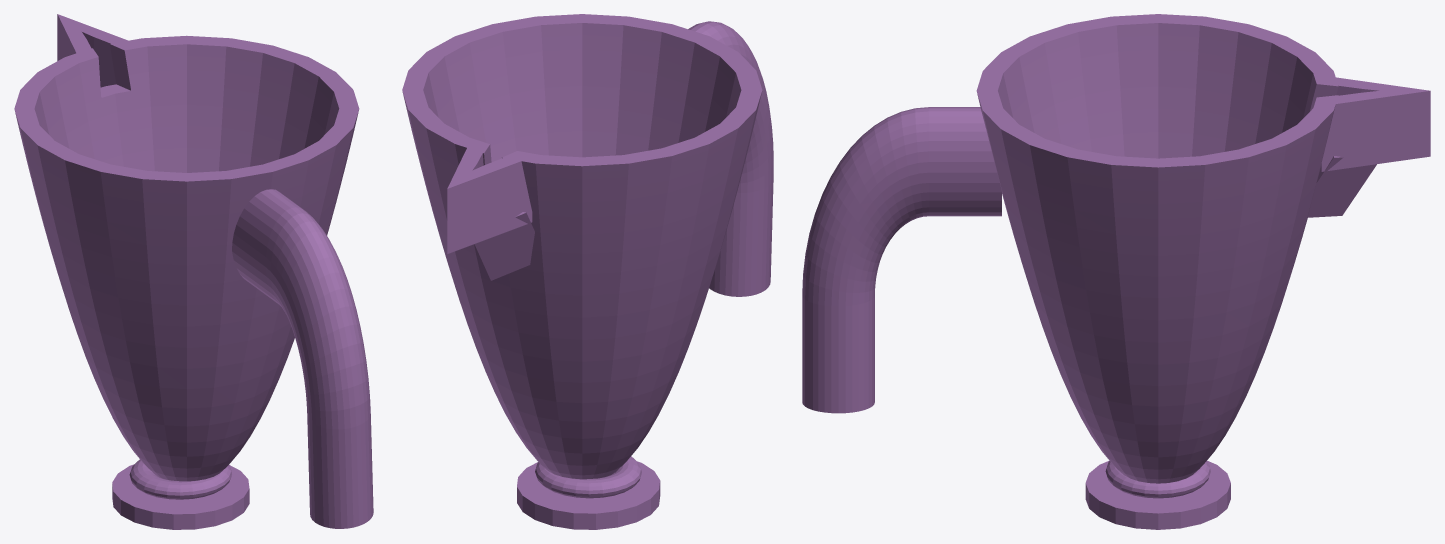
Rendered from Jarra.glb.
3 renders of one model, left to right at view 1: azimuth 30°, elevation 25°; view 2: azimuth 150°, elevation 25°; view 3: azimuth 270°, elevation 25°, orthographic. The views are drawn at different scales.
Parts seen in each view (by area): view 1: Mesh_Mesh_head_geo.001_lambert2SG.001; view 2: Mesh_Mesh_head_geo.001_lambert2SG.001; view 3: Mesh_Mesh_head_geo.001_lambert2SG.001.
Part boxes in pixels (left/top/right/bottom): Mesh_Mesh_head_geo.001_lambert2SG.001: left=14, top=14, right=373, bottom=529; Mesh_Mesh_head_geo.001_lambert2SG.001: left=402, top=14, right=773, bottom=529; Mesh_Mesh_head_geo.001_lambert2SG.001: left=802, top=14, right=1430, bottom=529.
Size of the model in its own units: 0.1 by 0.125 by 0.173.
